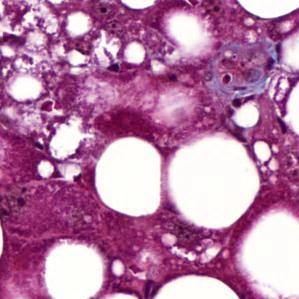steatosis: (94, 133, 166, 221)
